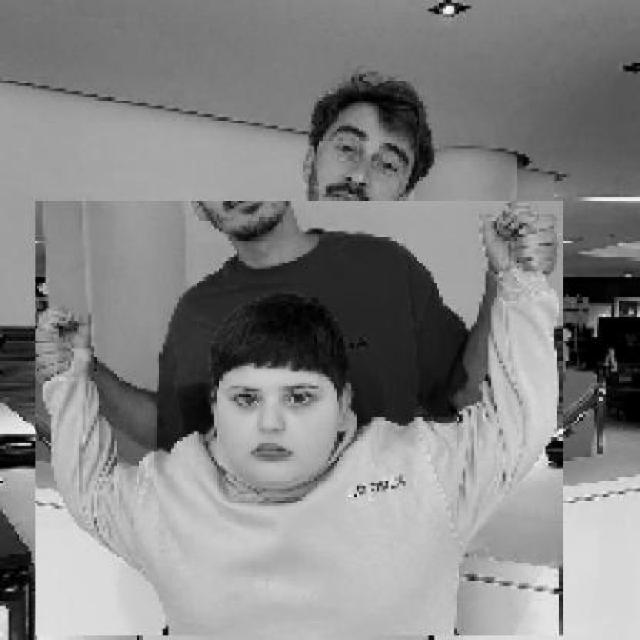child: (34, 200, 563, 637)
